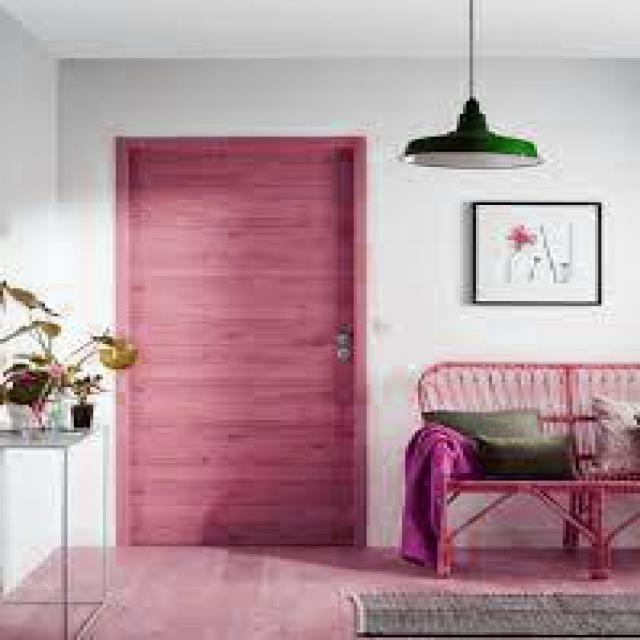door: (113, 134, 366, 548)
